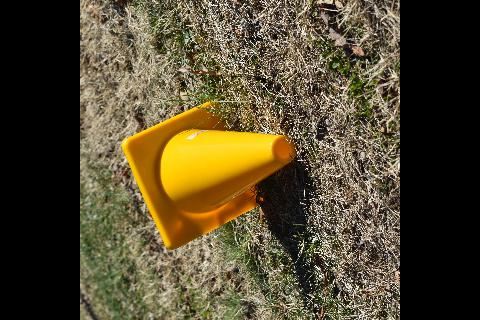cone: (121, 100, 297, 250)
